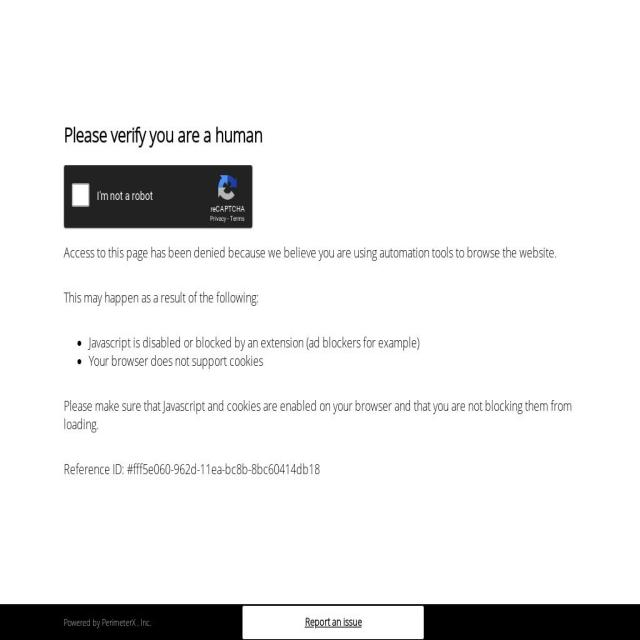heading: (64, 121, 576, 149)
iframe: (64, 164, 254, 230)
link: (102, 616, 136, 629)
text: (64, 396, 576, 433), (64, 242, 576, 262), (89, 332, 576, 352), (64, 459, 576, 478), (89, 351, 576, 370), (64, 288, 576, 306), (242, 605, 424, 640), (64, 616, 102, 629), (136, 616, 152, 629)
